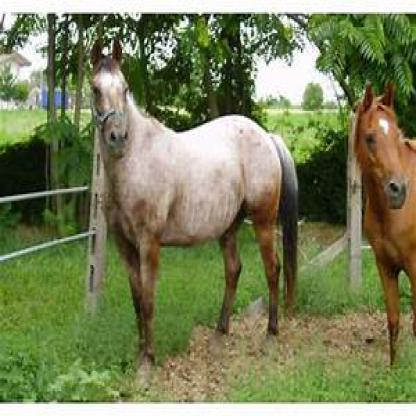horse: (86, 43, 301, 373), (354, 76, 414, 378)
